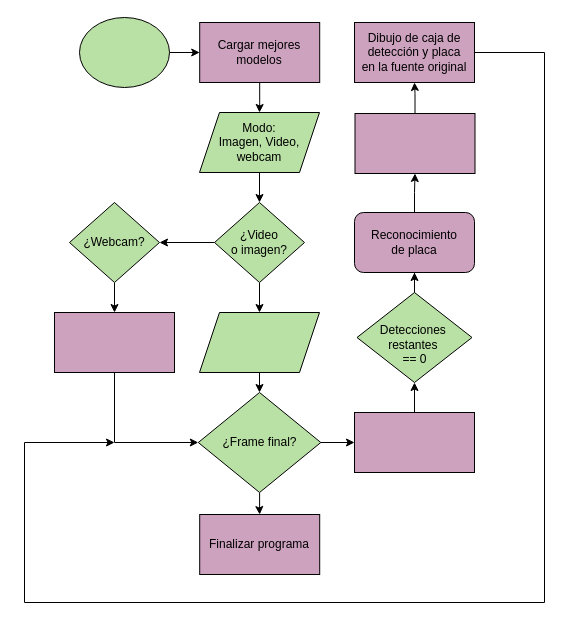
Some shapes in this 570 by 628 pixel diagram are drawn without their labels. The box of each missing label's shape, as (x1, y1, x2, y2) in pixels:
Caja de detección de placas: (354, 412, 474, 472)
Filtrado de confidencia: (354, 112, 475, 174)
Inicializar webcam: (54, 312, 174, 372)
Inicio: (78, 16, 170, 88)
Ruta de fuente: (198, 312, 320, 372)
